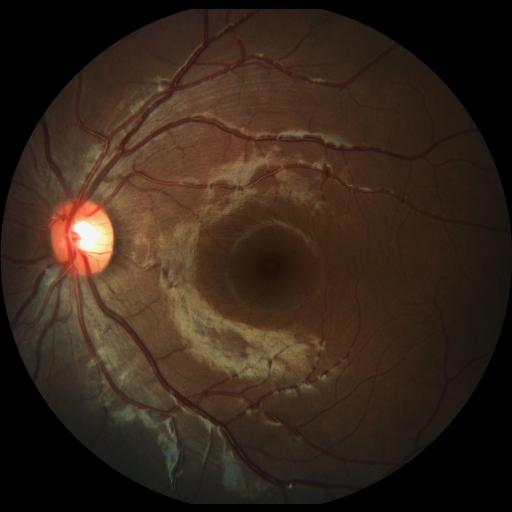Optic Cup: (68, 221, 99, 251)
Optic Disc: (50, 199, 114, 275)
